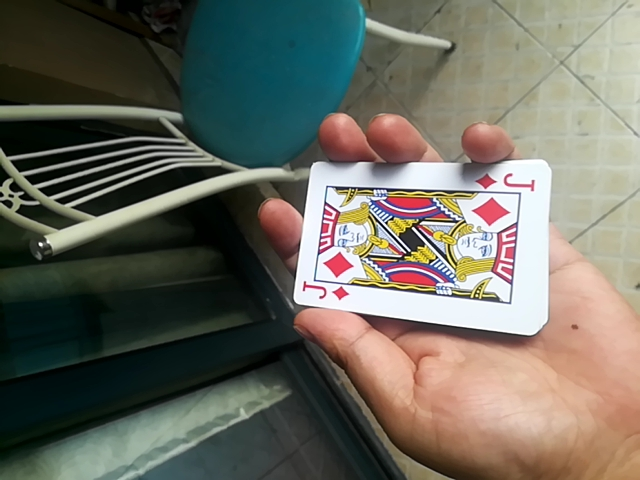fk j: (290, 158, 561, 335)
